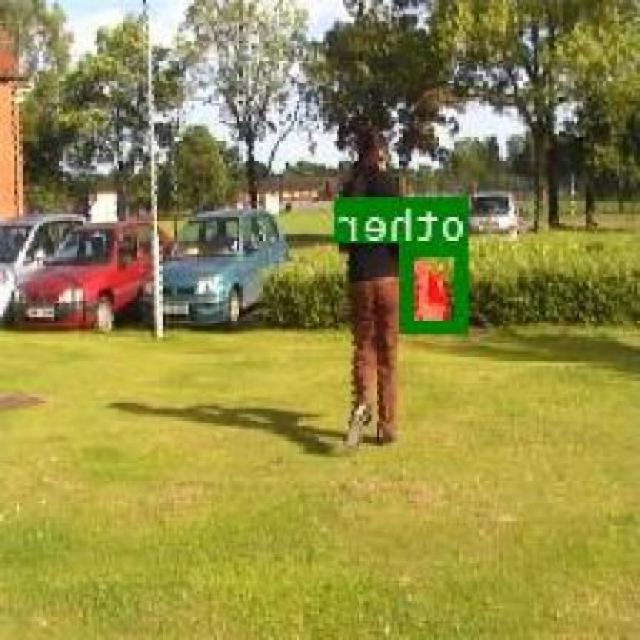other: (404, 242, 470, 330)
